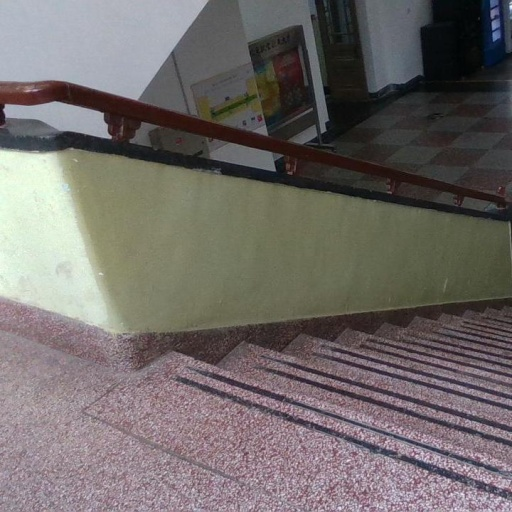Stairs: (204, 307, 512, 500)
